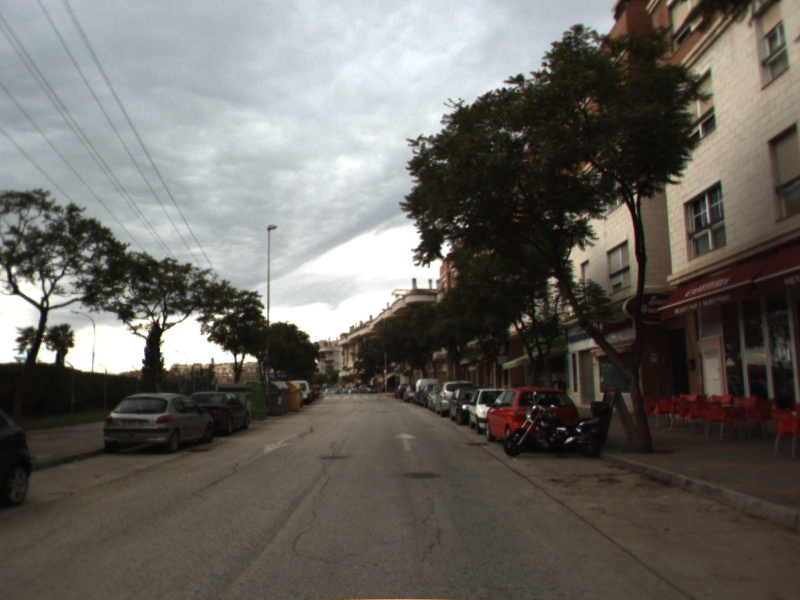STRAIGHT: (390, 430, 420, 453)
